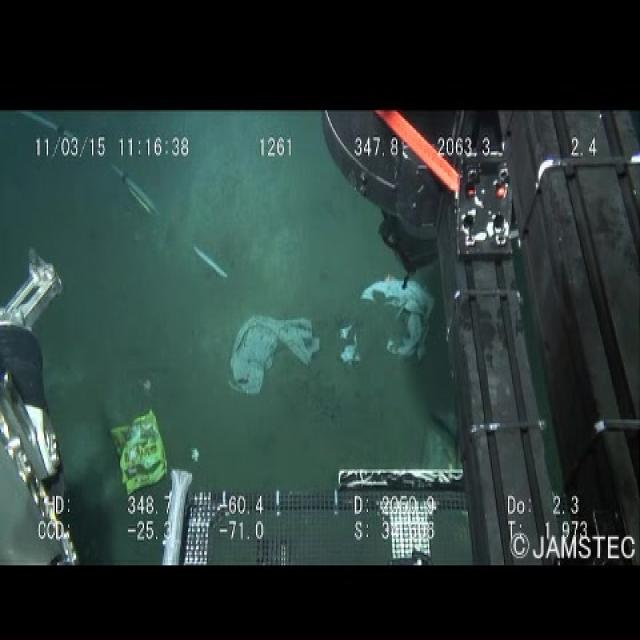plastic: (333, 270, 439, 384), (223, 308, 324, 398), (105, 405, 172, 491)
